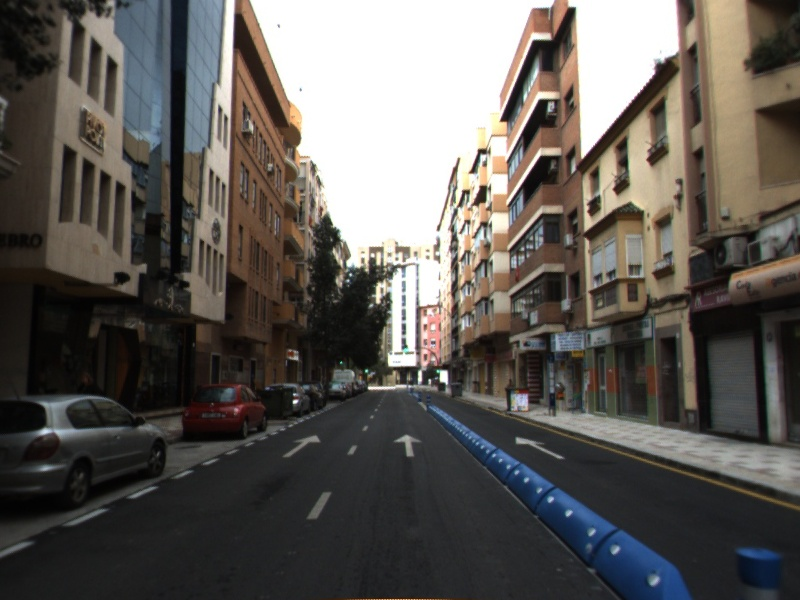STRAIGHT: (514, 435, 567, 461), (281, 433, 323, 459), (392, 433, 424, 458)
